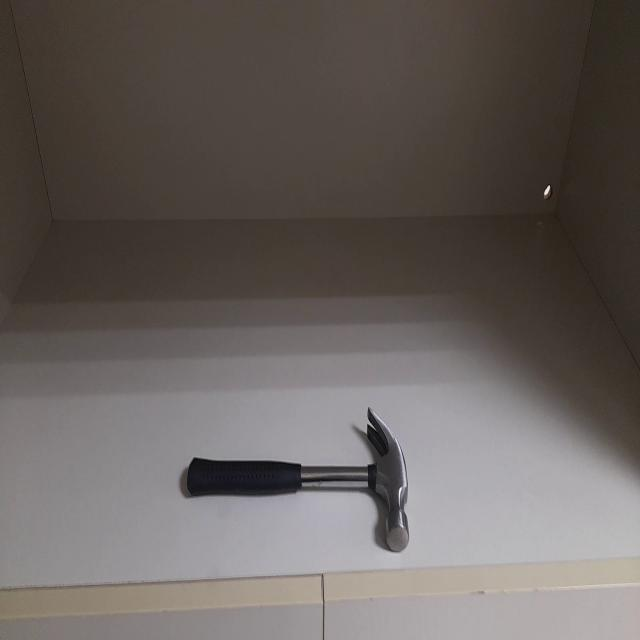hammer: (187, 405, 409, 551)
